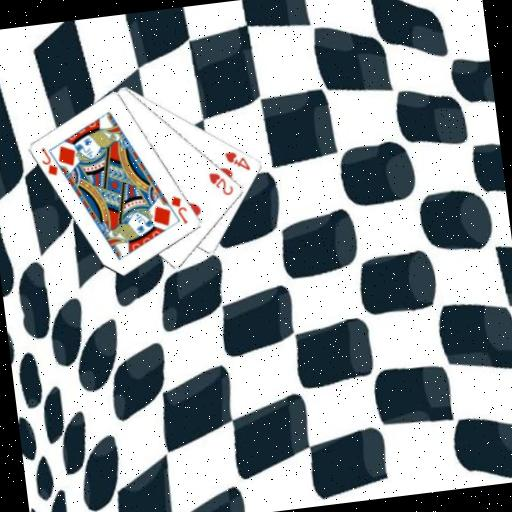2H: (206, 168, 236, 200)
4H: (222, 147, 253, 175)
JD: (37, 143, 61, 179), (167, 191, 190, 227)
